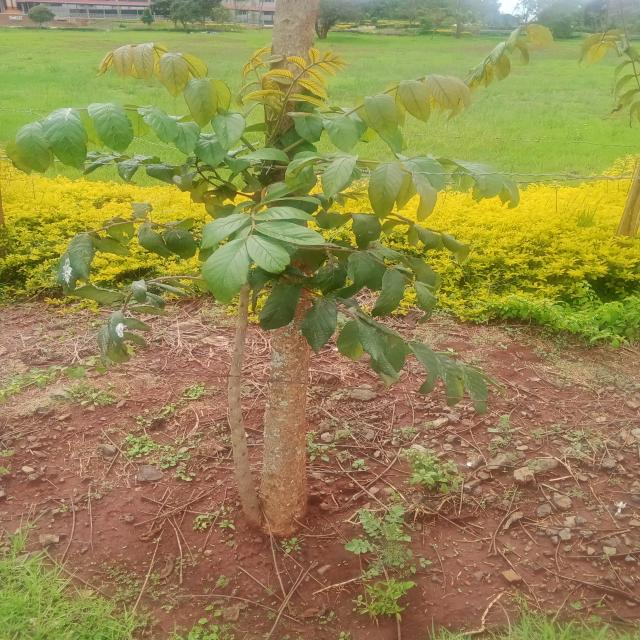Polyscias Kikuyensis: (13, 23, 599, 520)
